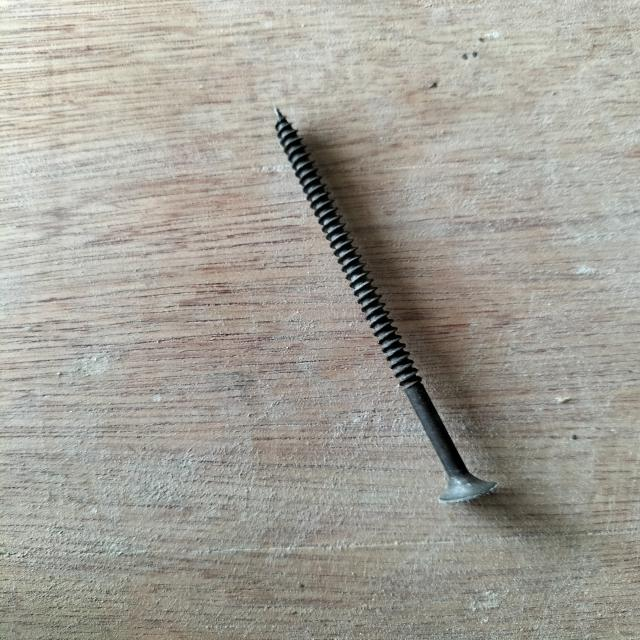screw: (273, 107, 497, 505)
